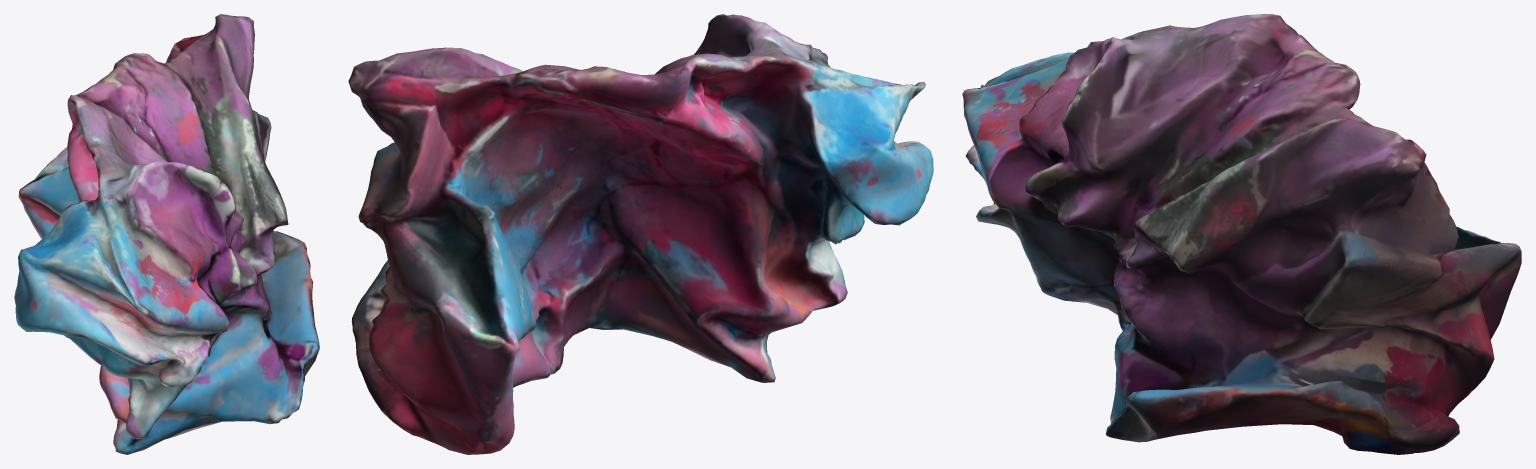
The model's file is preview.glb.
3 views of the same model, side by side, from view 1: azimuth 30°, elevation 25°; view 2: azimuth 150°, elevation 25°; view 3: azimuth 270°, elevation 25° (orthographic). The views are drawn at different scales.
Visible parts, largest first — view 1: ObjectCapture; view 2: ObjectCapture; view 3: ObjectCapture.
Part boxes in pixels (x1,y1,x2,y2): ObjectCapture: (14, 14, 319, 454); ObjectCapture: (348, 14, 933, 454); ObjectCapture: (962, 14, 1521, 454).
Bounding box in the file's own units: 0.2256 × 0.1854 × 0.2615.
1 material, 1 textured.
